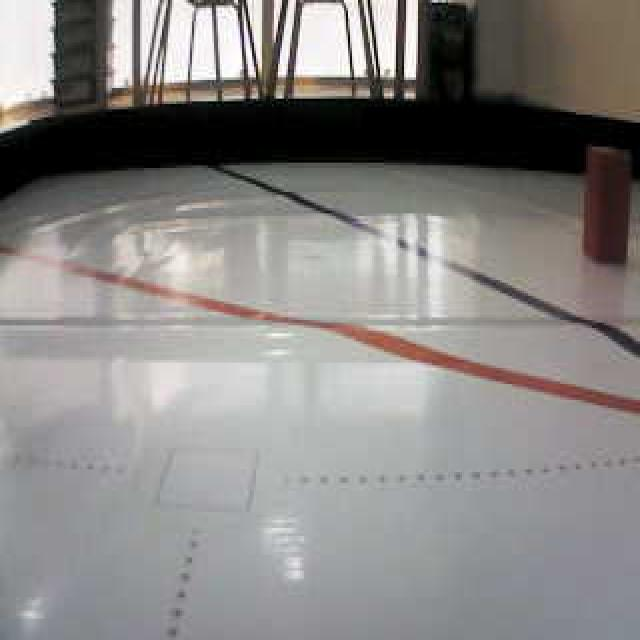azul: (258, 169, 418, 270)
naranja: (253, 286, 467, 434)
rojo: (581, 135, 635, 272)
